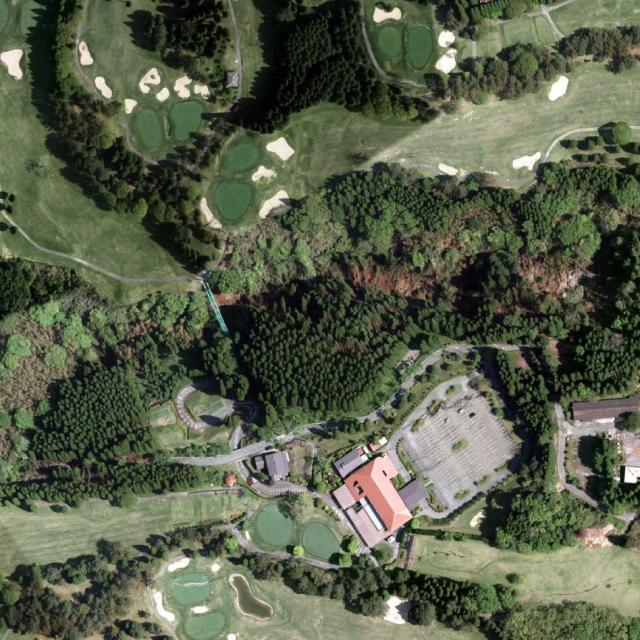landslide: (337, 258, 445, 295), (526, 261, 586, 297)
